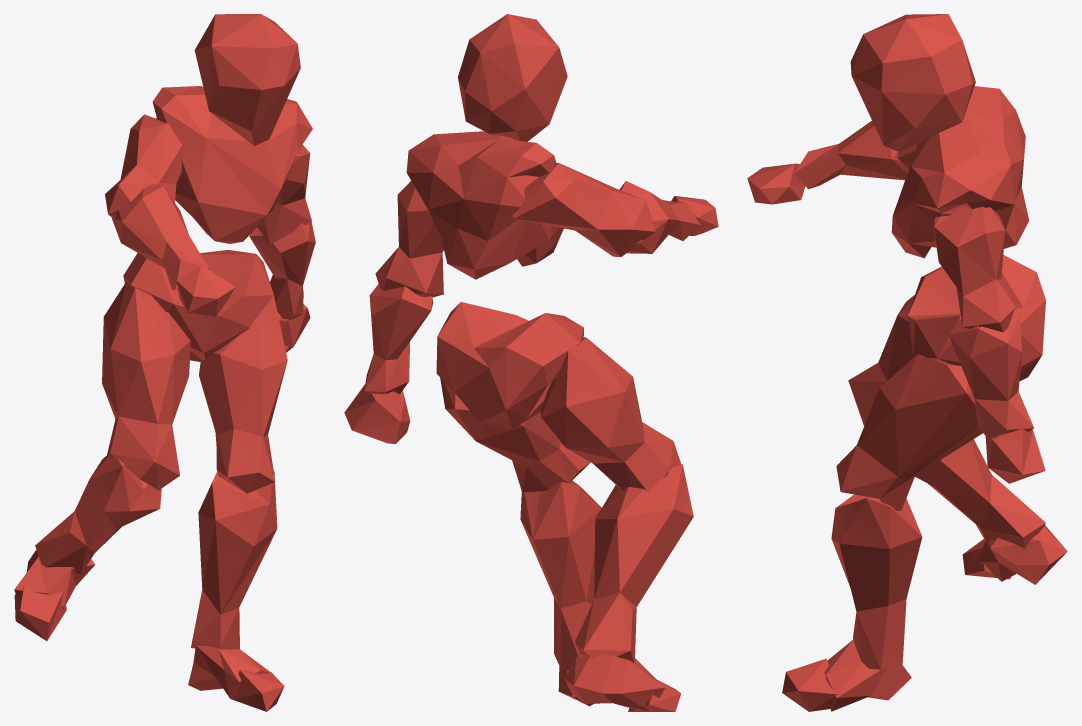
File: 2dancer0168.obj
The picture shows the model from 3 angles, left to right: view 1: azimuth 30°, elevation 25°; view 2: azimuth 150°, elevation 25°; view 3: azimuth 270°, elevation 25°; orthographic projection. The views are drawn at different scales.
Visible parts, largest first — view 1: Beta_Surface; view 2: Beta_Surface; view 3: Beta_Surface.
Boxes of the visible parts, x1,y1,x2,y2 form: Beta_Surface: [14, 14, 315, 711]; Beta_Surface: [344, 14, 718, 711]; Beta_Surface: [747, 14, 1067, 711].
Size of the model in its own units: 0.8824 by 1.8 by 0.7333.
